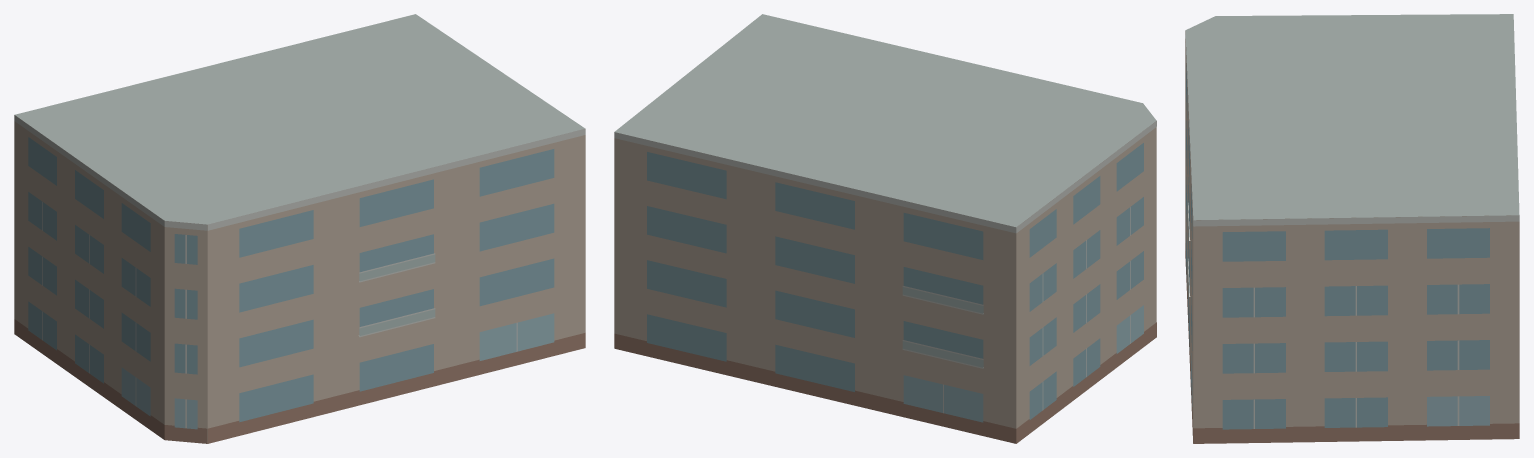
Rendered from survey-upis-32599604.glb.
The picture shows the model from 3 angles, left to right: view 1: azimuth 30°, elevation 25°; view 2: azimuth 150°, elevation 25°; view 3: azimuth 270°, elevation 25°; orthographic projection. The views are drawn at different scales.
Parts seen in each view (by area): view 1: survey-upis-32599604.tmp; view 2: survey-upis-32599604.tmp; view 3: survey-upis-32599604.tmp.
Boxes of the visible parts, x1,y1,x2,y2 form: survey-upis-32599604.tmp: (14,14,585,443); survey-upis-32599604.tmp: (614,14,1156,443); survey-upis-32599604.tmp: (1185,14,1519,443).
Size of the model in its own units: 17.01 by 8.6 by 11.65.
